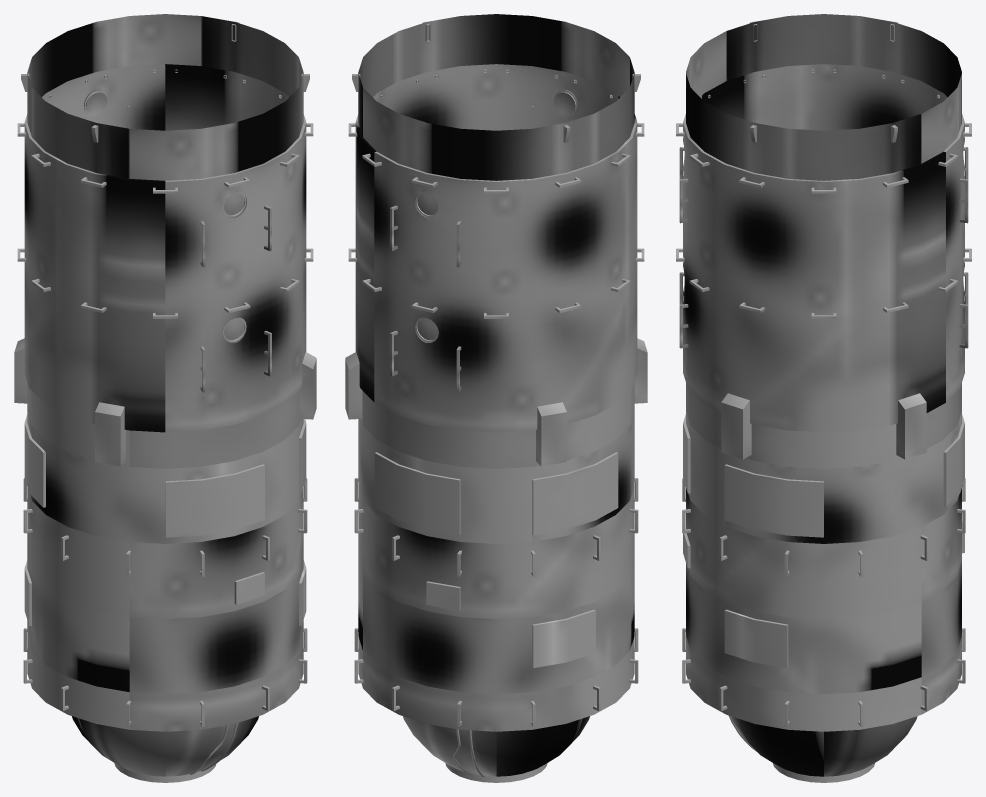
The model's file is crew_hab.fbx.
The picture shows the model from 3 angles, left to right: view 1: azimuth 30°, elevation 25°; view 2: azimuth 150°, elevation 25°; view 3: azimuth 270°, elevation 25°; orthographic projection.
Visible parts, largest first — view 1: mesh; view 2: mesh; view 3: mesh.
Boxes of the visible parts, bbox=[...] form: mesh: bbox=[14, 14, 316, 782]; mesh: bbox=[345, 14, 647, 782]; mesh: bbox=[676, 14, 971, 782].
Bounding box in the file's own units: 2.68 × 6.88 × 2.68.
